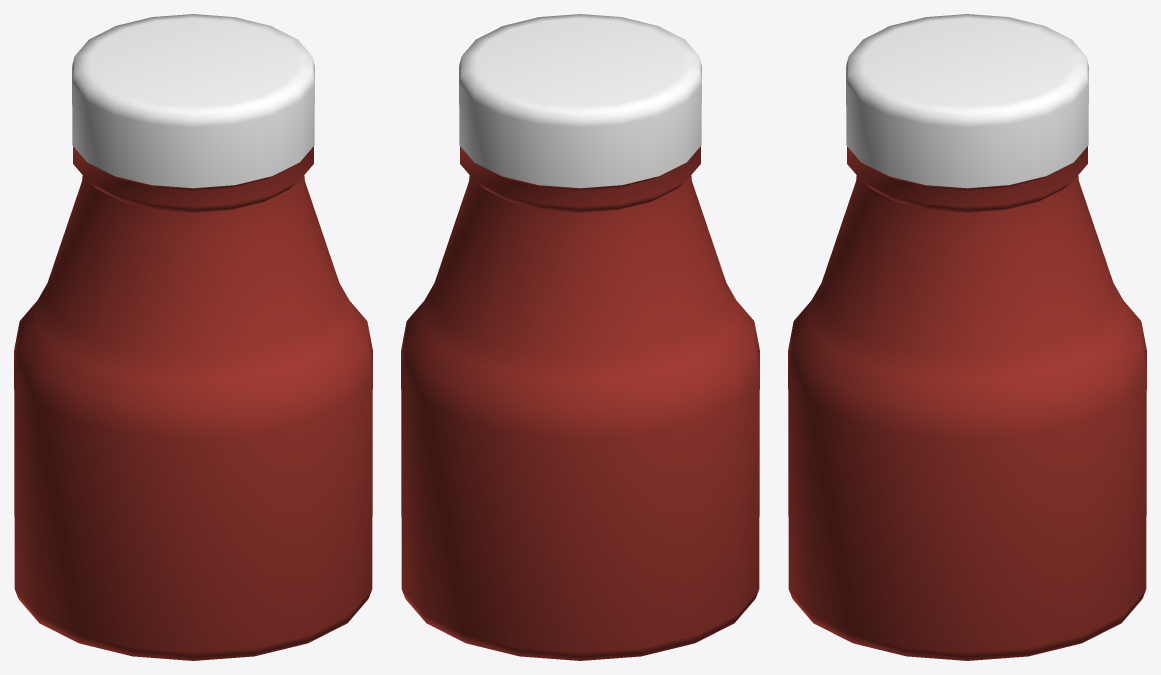
The model's file is Ketchup_Bottle_LP.FBX.
3 views of the same model, side by side, from view 1: azimuth 30°, elevation 25°; view 2: azimuth 150°, elevation 25°; view 3: azimuth 270°, elevation 25° (orthographic).
Parts seen in each view (by area): view 1: Cylinder001; view 2: Cylinder001; view 3: Cylinder001.
Boxes of the visible parts, left/top/right/bottom form: Cylinder001: left=14, top=14, right=372, bottom=660; Cylinder001: left=401, top=14, right=759, bottom=660; Cylinder001: left=788, top=14, right=1146, bottom=660.
Size of the model in its own units: 35.46 by 56.54 by 34.92.
Materials: 1 (1 with a texture image).
